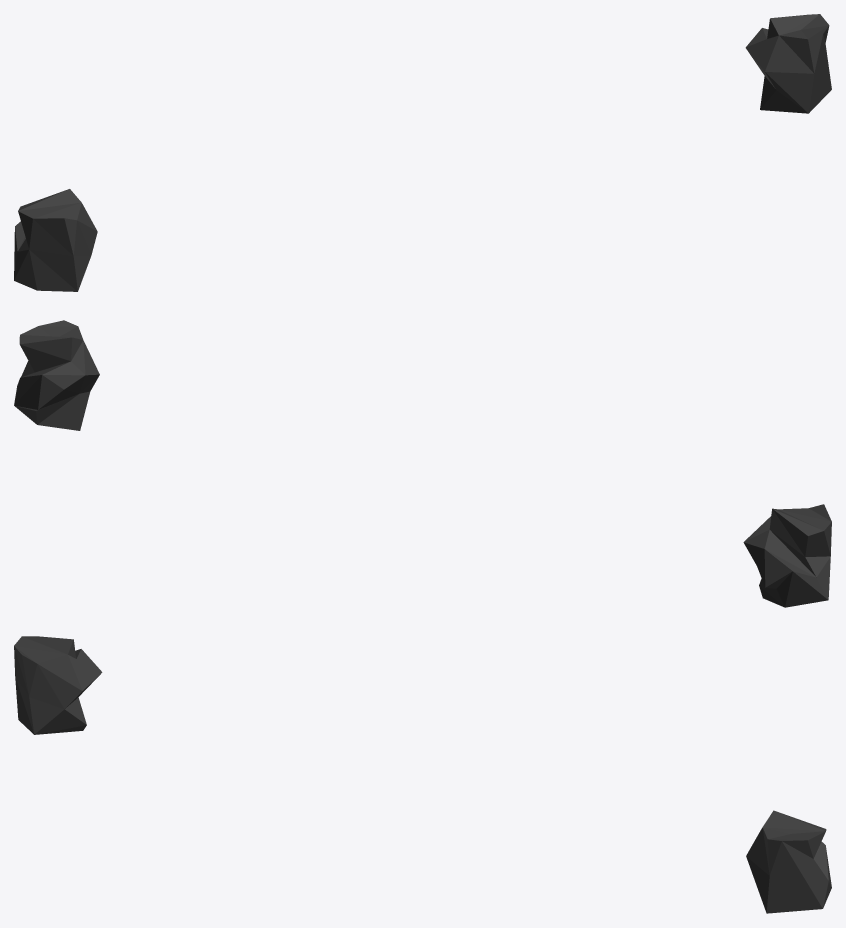
File: Tarsal_fourth.glb
The picture shows the model from 3 angles, top to bottom: view 1: azimuth 30°, elevation 25°; view 2: azimuth 150°, elevation 25°; view 3: azimuth 330°, elevation 25°; orthographic projection.
Visible parts, largest first — view 1: Tarsal_fourth; view 2: Tarsal_fourth; view 3: Tarsal_fourth.
Part boxes in pixels (<box>): Tarsal_fourth: <box>14,14,831,291</box>; Tarsal_fourth: <box>14,320,831,607</box>; Tarsal_fourth: <box>14,636,831,913</box>.
Size of the model in its own units: 0.00548 by 0.000584 by 0.000527.
1 material, 1 textured.
